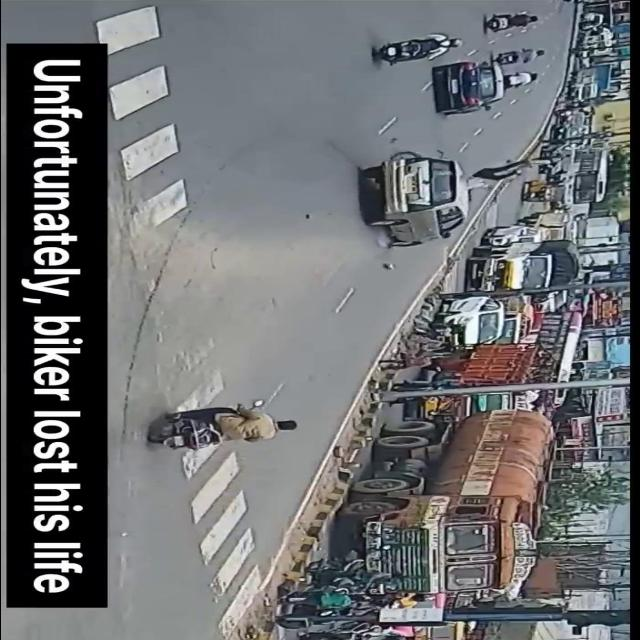accident: (352, 147, 548, 253)
non_accident: (277, 404, 560, 640), (526, 1, 637, 211), (391, 294, 585, 404), (463, 209, 592, 291)
